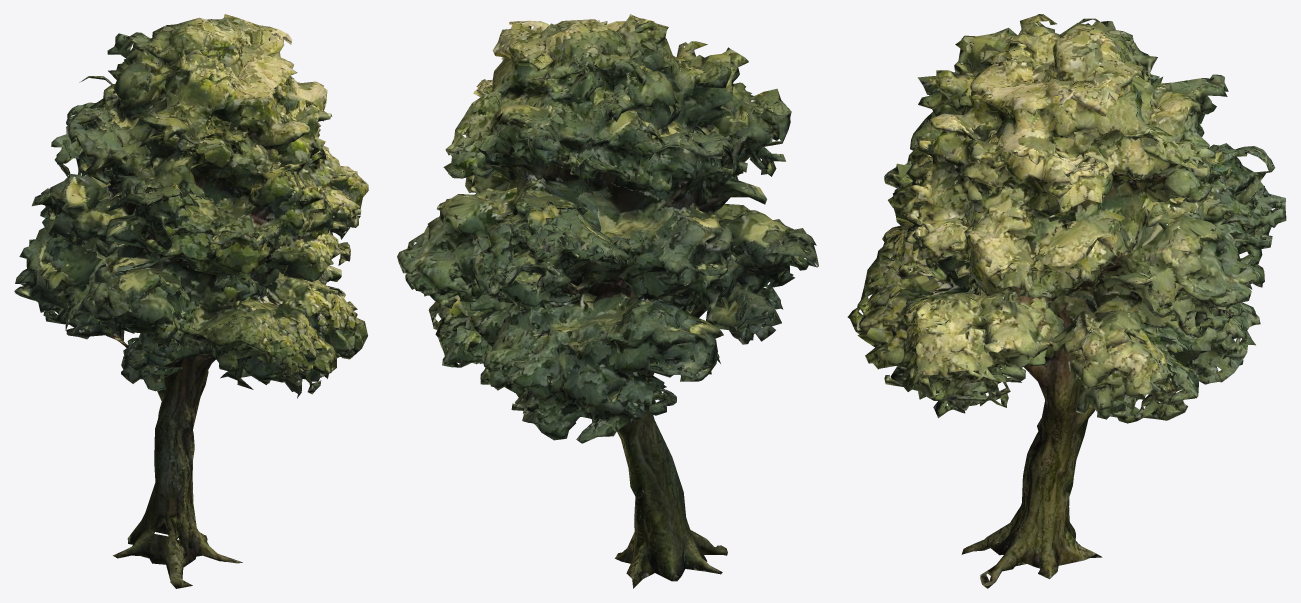
Rendered from prop_tree_b.glb.
3 renders of one model, left to right at view 1: azimuth 30°, elevation 25°; view 2: azimuth 150°, elevation 25°; view 3: azimuth 270°, elevation 25°, orthographic. The views are drawn at different scales.
Parts seen in each view (by area): view 1: texture_mapping; view 2: texture_mapping; view 3: texture_mapping.
Boxes of the visible parts, x1,y1,x2,y2 form: texture_mapping: (14, 14, 368, 588); texture_mapping: (397, 14, 818, 588); texture_mapping: (847, 14, 1286, 588).
Size of the model in its own units: 0.5918 by 0.9742 by 0.69.
1 material, 1 textured.
